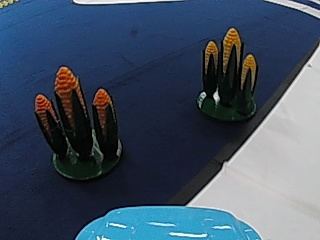corn: (33, 62, 124, 179), (193, 25, 263, 121)
